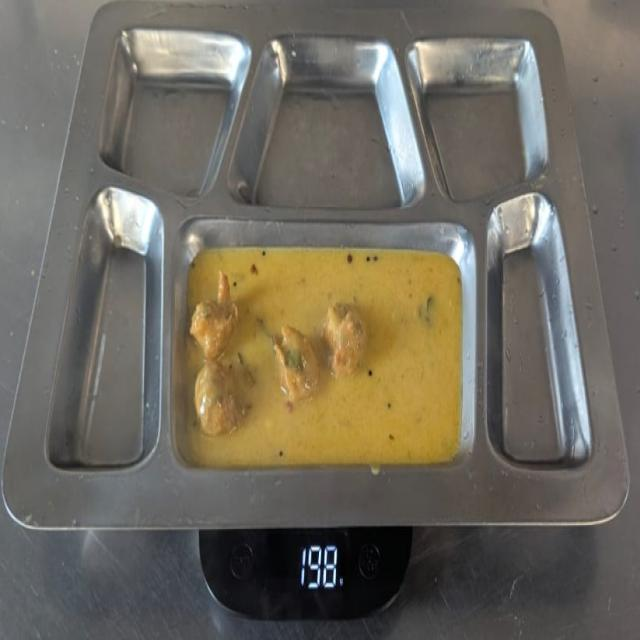Kadhi: (179, 234, 466, 470)
